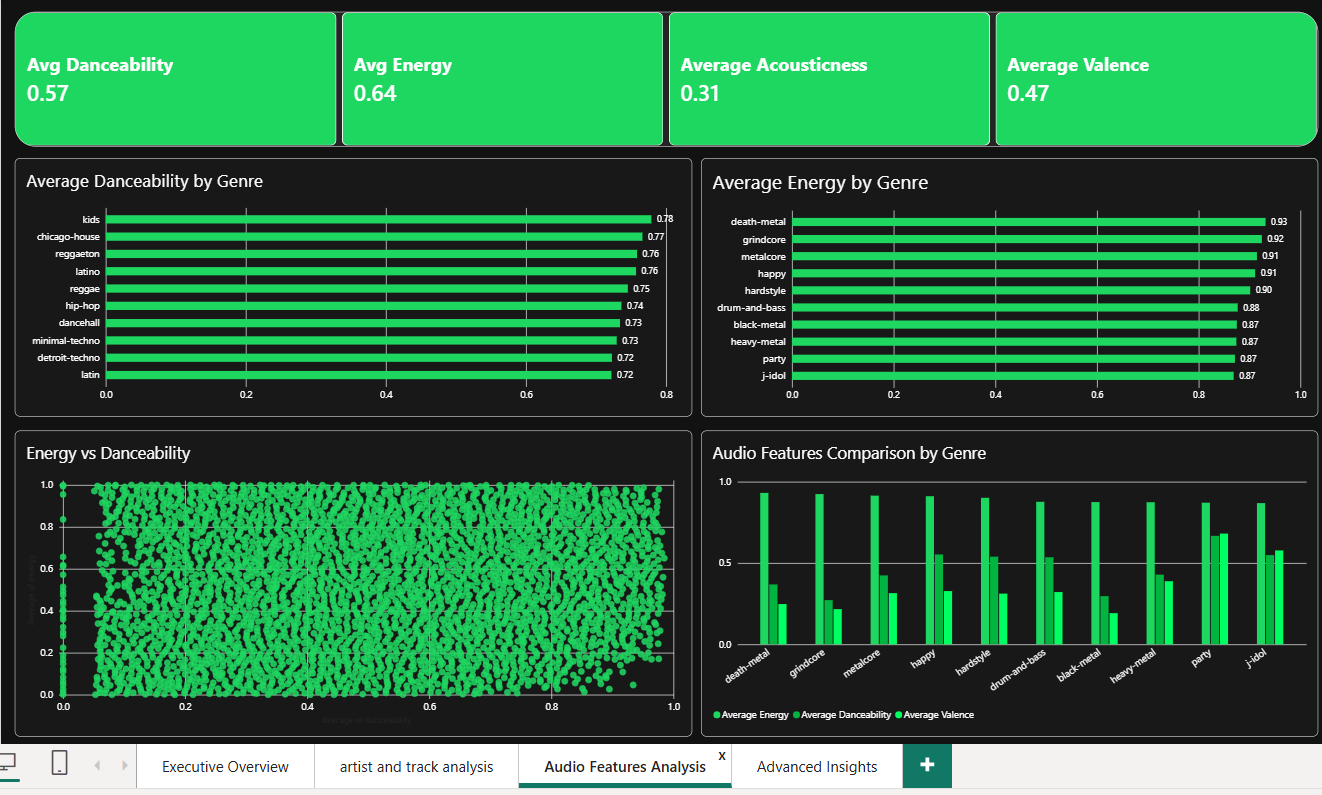

Layout of this report page (visuals, bound fields, positions):
{"tool":"powerbi","page":{"name":"Audio Features Analysis","canvas":[1920,1080],"ordinal":2},"visuals":[{"type":"cardVisual","fields":{"Data":["FactTracks.Avg Danceability","FactTracks.Avg Energy","Measures (2).Average Acousticness","Measures (2).Average Valence"]},"box":[19.9,19.9,1887.5,195.4],"z":0},{"type":"clusteredBarChart","title":"Average Energy by Genre","fields":{"Category":["FactTracks.track_genre"],"Y":["Measures (2).Average Energy"]},"box":[1013.4,231.6,894,374.6],"z":1},{"type":"clusteredBarChart","title":"Average Danceability by Genre","fields":{"Category":["FactTracks.track_genre"],"Y":["Measures (2).Average Danceability"]},"box":[19.9,231.6,980.8,374.6],"z":2},{"type":"scatterChart","title":"Energy vs Danceability","fields":{"Category":["FactTracks.track_id"],"X":["Avg(FactTracks.danceability)"],"Y":["Avg(FactTracks.energy)"]},"box":[19.9,626.1,980.8,443.4],"z":3},{"type":"clusteredColumnChart","title":"Audio Features Comparison by Genre","fields":{"Category":["FactTracks.track_genre"],"Y":["Measures (2).Average Energy","Measures (2).Average Danceability","Measures (2).Average Valence"]},"box":[1013.4,626.1,894,443.4],"z":4}]}

Visuals, with their boxes on the page's 1920x1080 design canvas (x1, y1, x2, y2). These are canvas units, not pixel positions in the 1322x795 screenshot, which may show the page scaled, cropped or inside an application window:
cardVisual - FactTracks.Avg Danceability x FactTracks.Avg Energy: {"left": 20, "top": 20, "right": 1907, "bottom": 215}
"Average Energy by Genre" clusteredBarChart: {"left": 1013, "top": 232, "right": 1907, "bottom": 606}
"Average Danceability by Genre" clusteredBarChart: {"left": 20, "top": 232, "right": 1001, "bottom": 606}
"Energy vs Danceability" scatterChart: {"left": 20, "top": 626, "right": 1001, "bottom": 1070}
"Audio Features Comparison by Genre" clusteredColumnChart: {"left": 1013, "top": 626, "right": 1907, "bottom": 1070}
